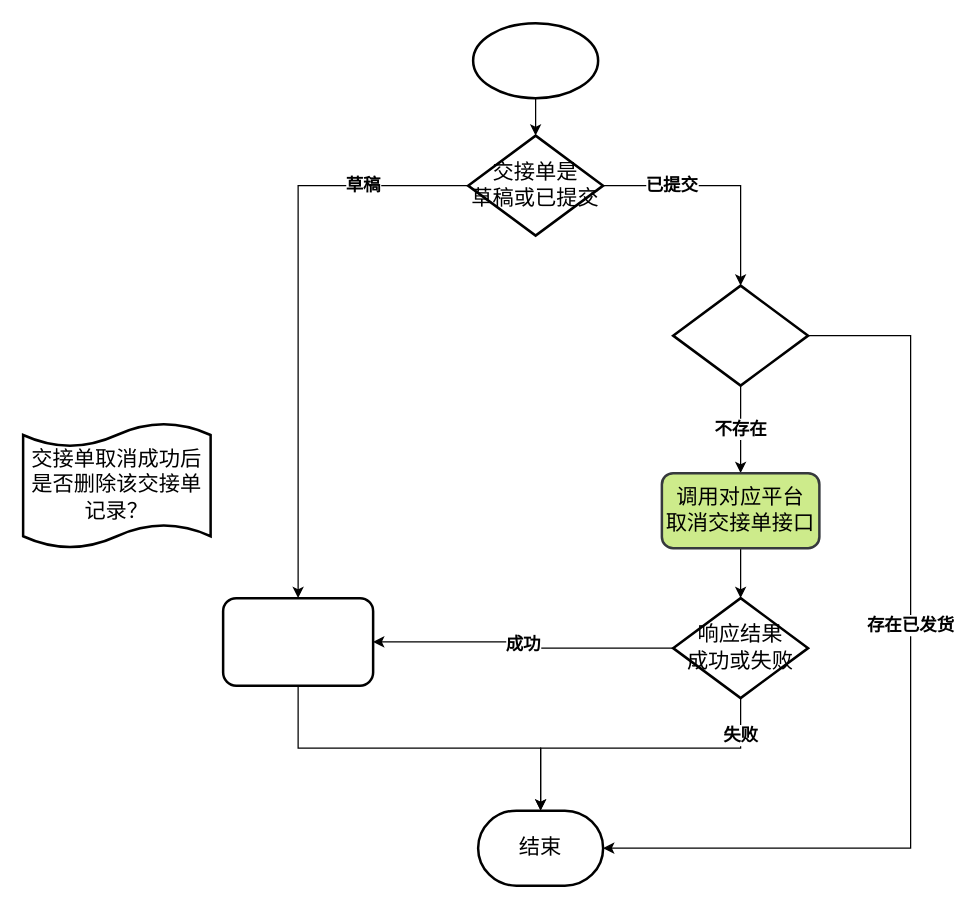
Some shapes in this 975 by 908 pixel diagram are drawn without their labels. Here are the shapes that lost their labels. From the top down, the box of each, then its label:
(471, 21, 599, 99): 取消交接单
(671, 284, 809, 386): 交接单下订单 是否存在 已发货
(221, 596, 374, 686): 更新订单记录 移除交接单相关数据
